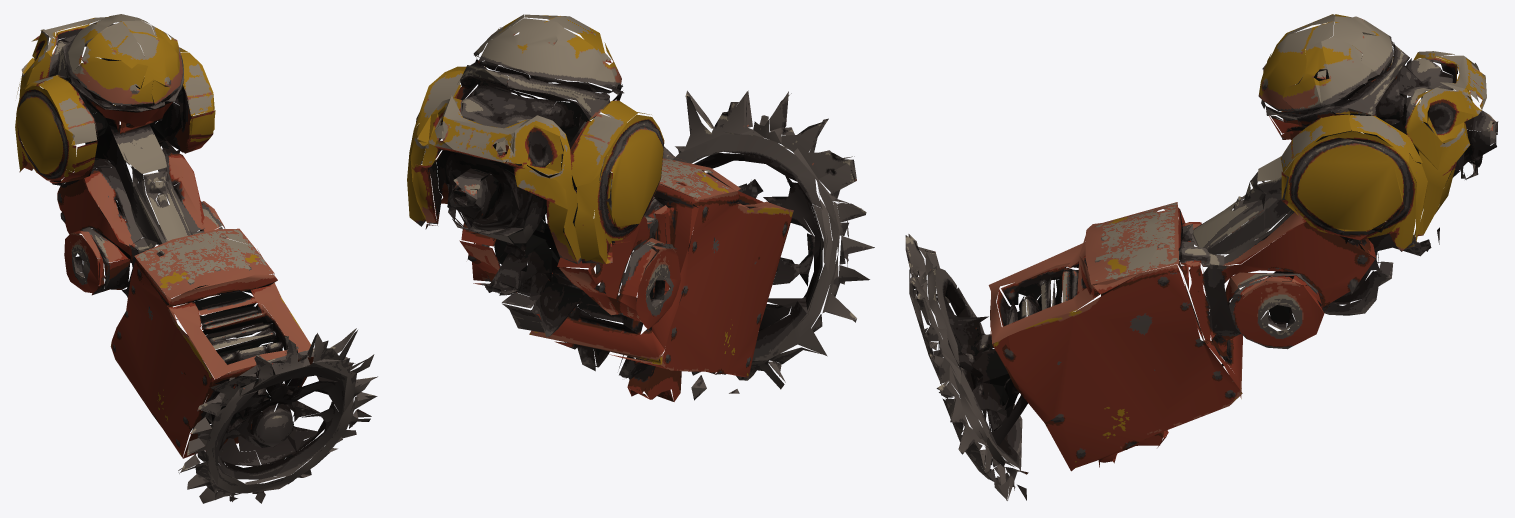
Rendered from ar_saw.glb.
3 views of the same model, side by side, from view 1: azimuth 30°, elevation 25°; view 2: azimuth 150°, elevation 25°; view 3: azimuth 270°, elevation 25° (orthographic). The views are drawn at different scales.
Visible parts, largest first — view 1: ar_saw; view 2: ar_saw; view 3: ar_saw.
Part boxes in pixels (x1=…): ar_saw: x1=15, y1=14, x2=377, y2=503; ar_saw: x1=407, y1=14, x2=874, y2=401; ar_saw: x1=905, y1=14, x2=1498, y2=500.
Bounding box in the file's own units: 0.1894 × 0.3739 × 0.42.
1 material, 1 textured.
